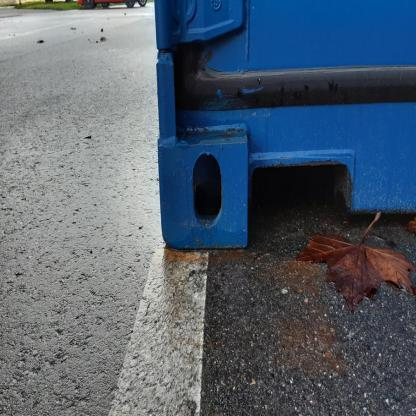CornerCasting: (154, 125, 252, 251)
